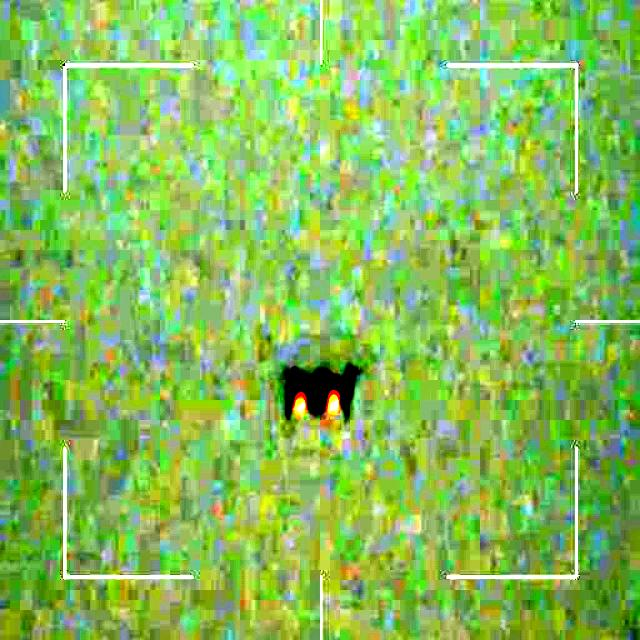bird: (281, 355, 362, 419)
